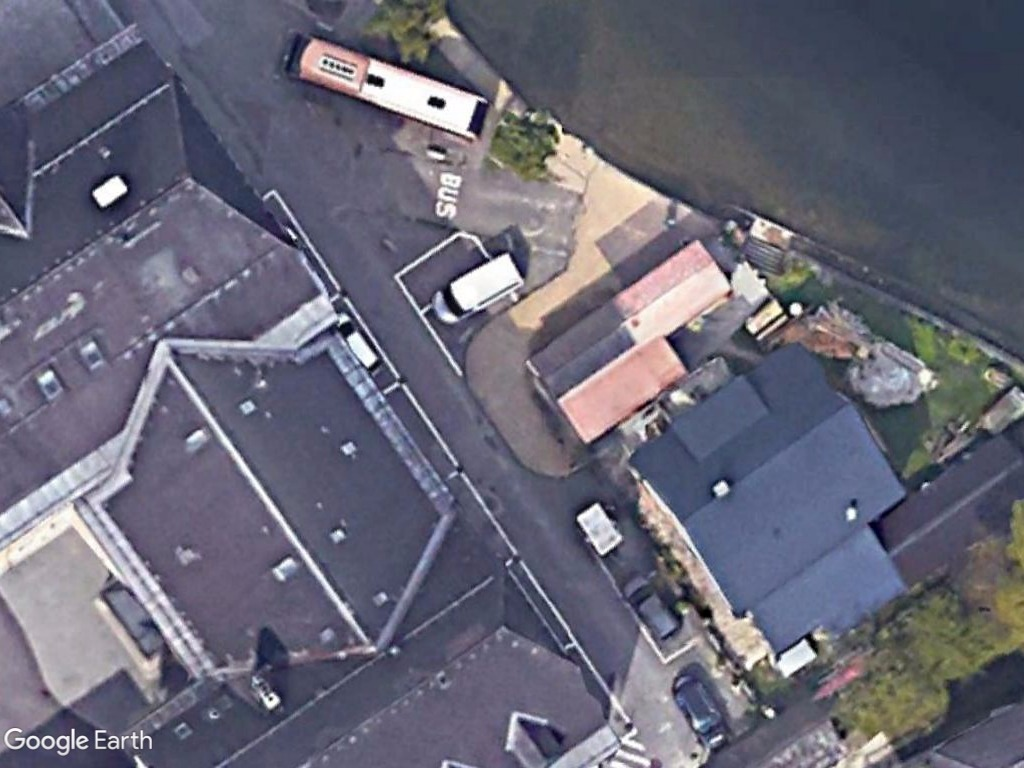bus: (284, 32, 496, 147)
car: (671, 667, 733, 754), (616, 570, 685, 643)
van: (425, 245, 527, 328)
